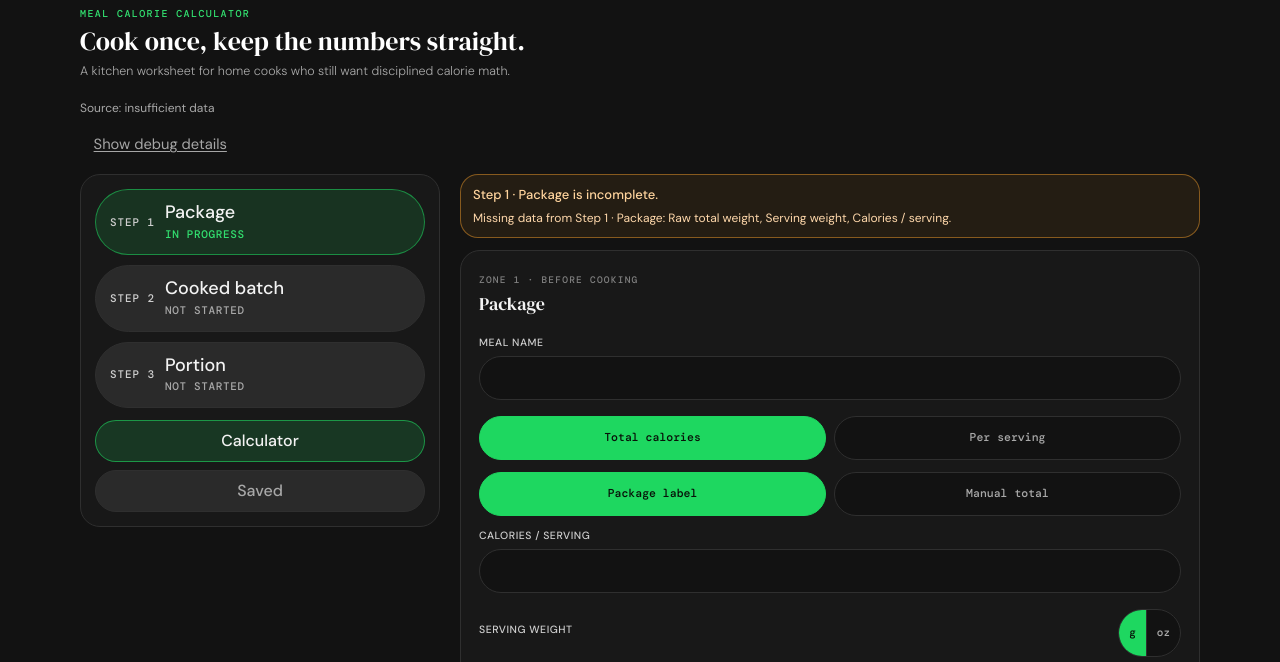
Test: ZoneLayout › allows switching directly to step 3 without blocking
Click the button "Step 3 Portion Not started" at (132, 374), box [95, 342, 425, 408]
(page scrolled)
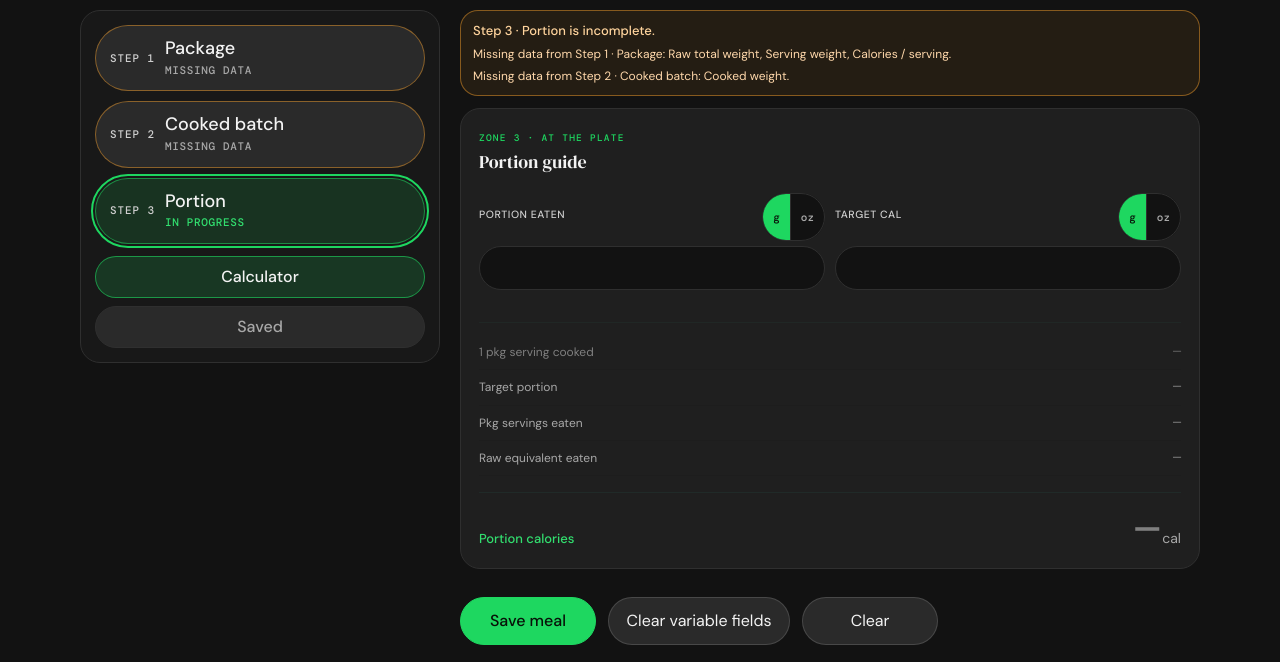
Expected: the element with test id "zone-portion" is shown, [460, 108, 1200, 569]
